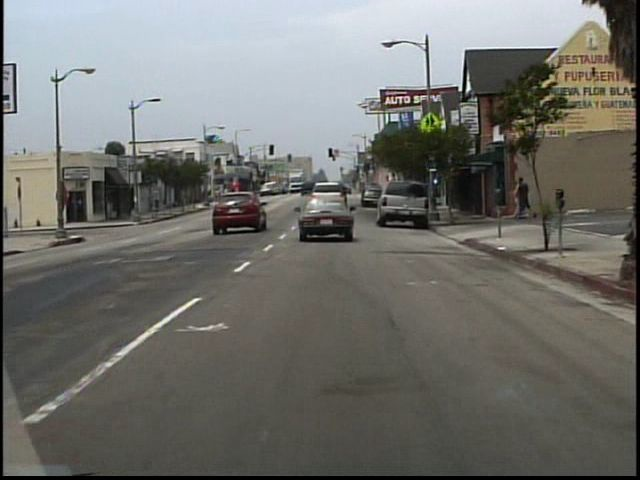person: (510, 181, 523, 219), (518, 177, 530, 218), (155, 190, 164, 214)
